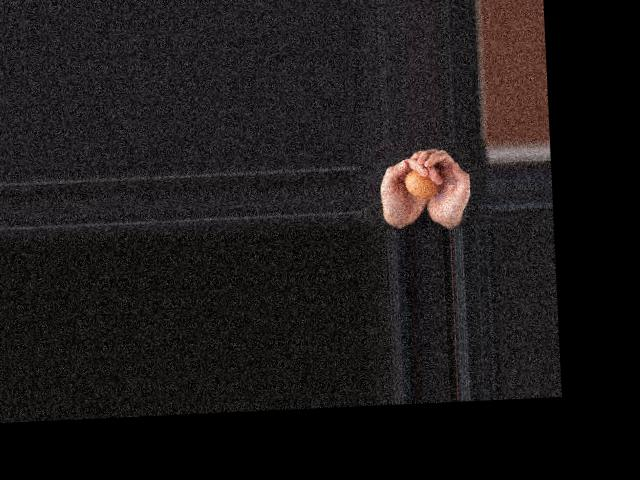egg: (404, 169, 440, 199)
